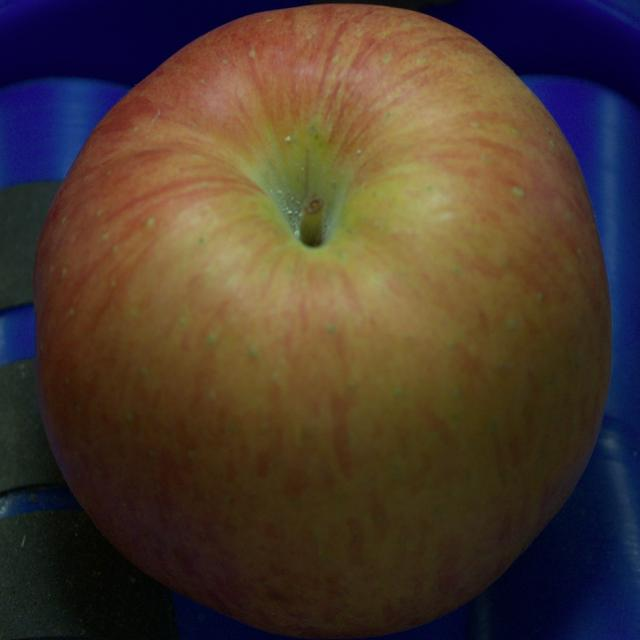apple: (32, 5, 611, 638)
